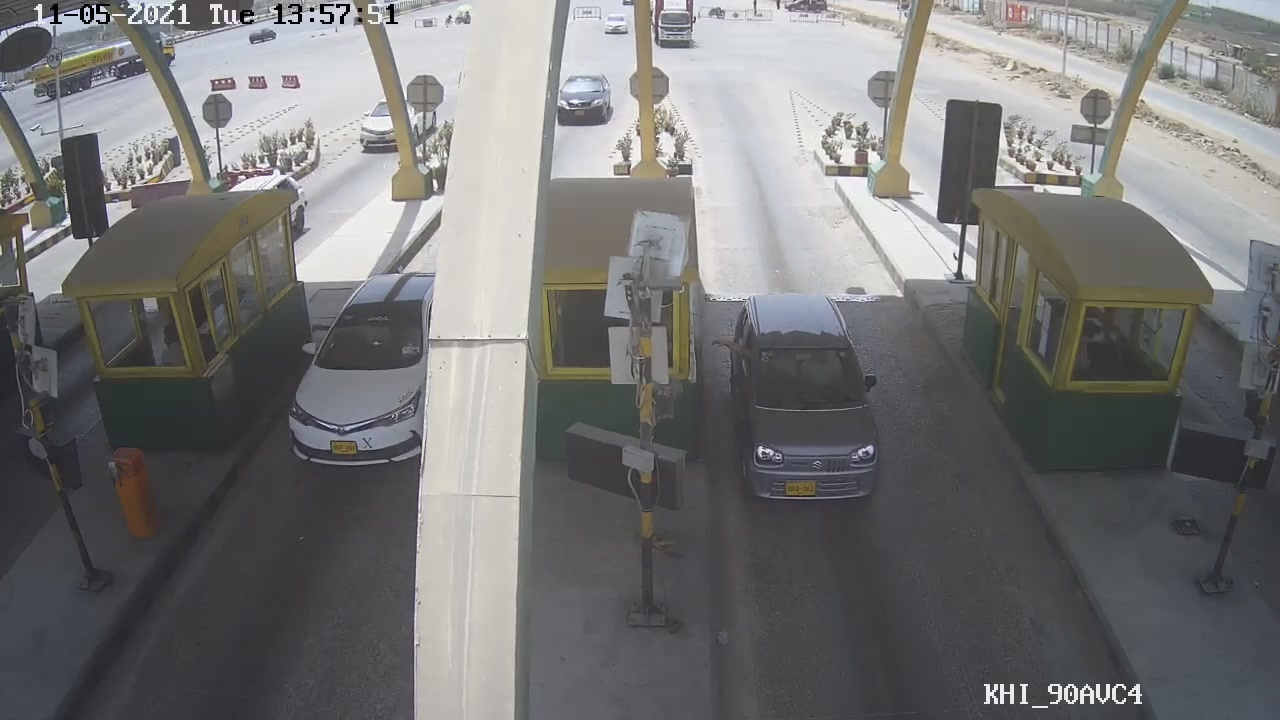F1: (713, 289, 890, 509)
